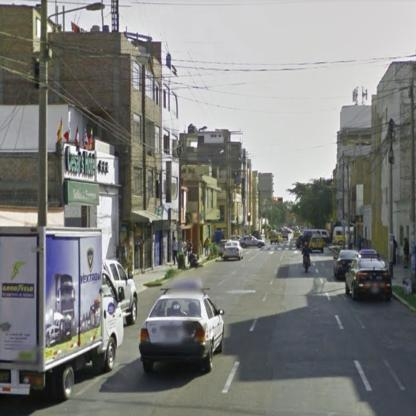Moto: (301, 242, 311, 274)
Peaton: (404, 239, 410, 270), (174, 238, 180, 266), (394, 236, 399, 266), (188, 241, 193, 266), (205, 239, 209, 257)
Pista: (51, 248, 415, 415)
Vehiculo: (3, 226, 127, 402), (141, 294, 225, 375), (103, 259, 139, 324), (345, 257, 394, 302), (334, 251, 359, 282), (301, 230, 332, 248), (223, 239, 245, 264), (334, 227, 355, 247), (241, 235, 267, 250), (311, 238, 325, 254), (296, 236, 312, 250), (271, 235, 284, 245)
